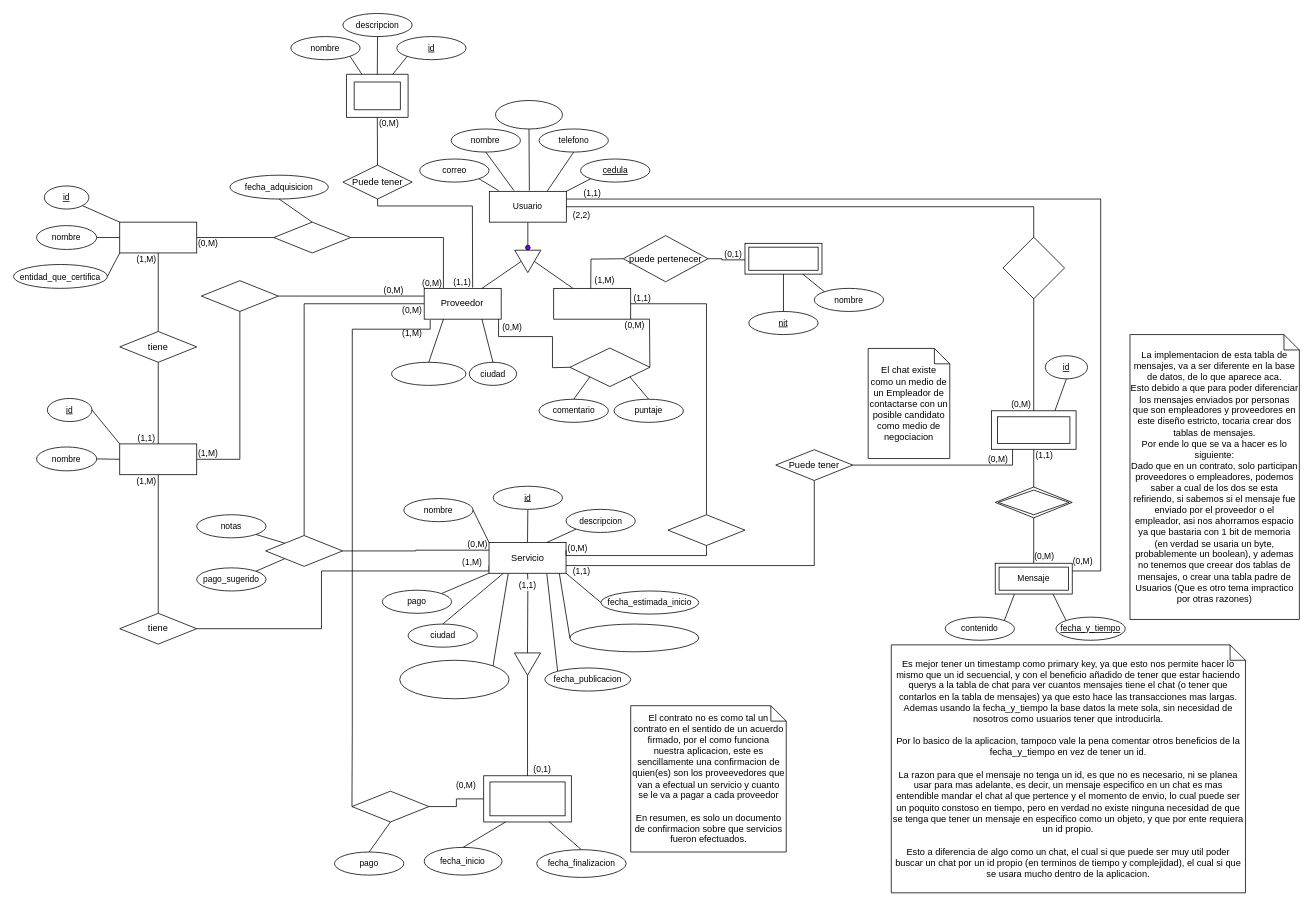
The diagram is 1313 pixels wide and 906 high, and some of its shapes have lost their labels. Each missing label, with the box of its shape:
adquirir: (273, 221, 351, 253)
Certificado: (119, 221, 197, 253)
Chat: (997, 416, 1070, 443)
contraseña: (495, 100, 562, 129)
Contrato: (489, 781, 565, 816)
efectua: (351, 790, 429, 822)
Empleador: (553, 288, 631, 319)
Empresa: (744, 243, 822, 274)
especializa: (201, 280, 278, 311)
fecha_cierre_postulacion: (399, 660, 509, 699)
fecha_estimada_finalizacion: (569, 623, 699, 652)
fecha_nacimiento: (391, 362, 466, 385)
has: (994, 486, 1072, 518)
Info extra: (346, 74, 408, 117)
participa en: (1002, 236, 1065, 299)
postular: (265, 535, 343, 566)
Review: (569, 347, 650, 387)
solicita: (667, 514, 745, 546)
Tipo: (119, 443, 197, 475)
